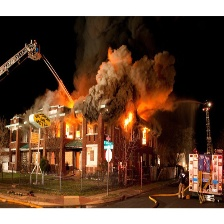fire: (64, 122, 81, 144), (121, 109, 137, 129), (140, 127, 150, 146)
smoke: (68, 17, 176, 117)
